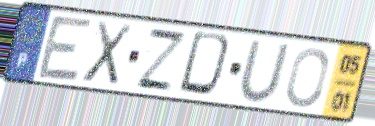D: (175, 29, 237, 101)
E: (34, 13, 96, 85)
O: (284, 46, 331, 110)
U: (237, 38, 292, 105)
X: (78, 18, 136, 88)
Z: (132, 26, 190, 95)
